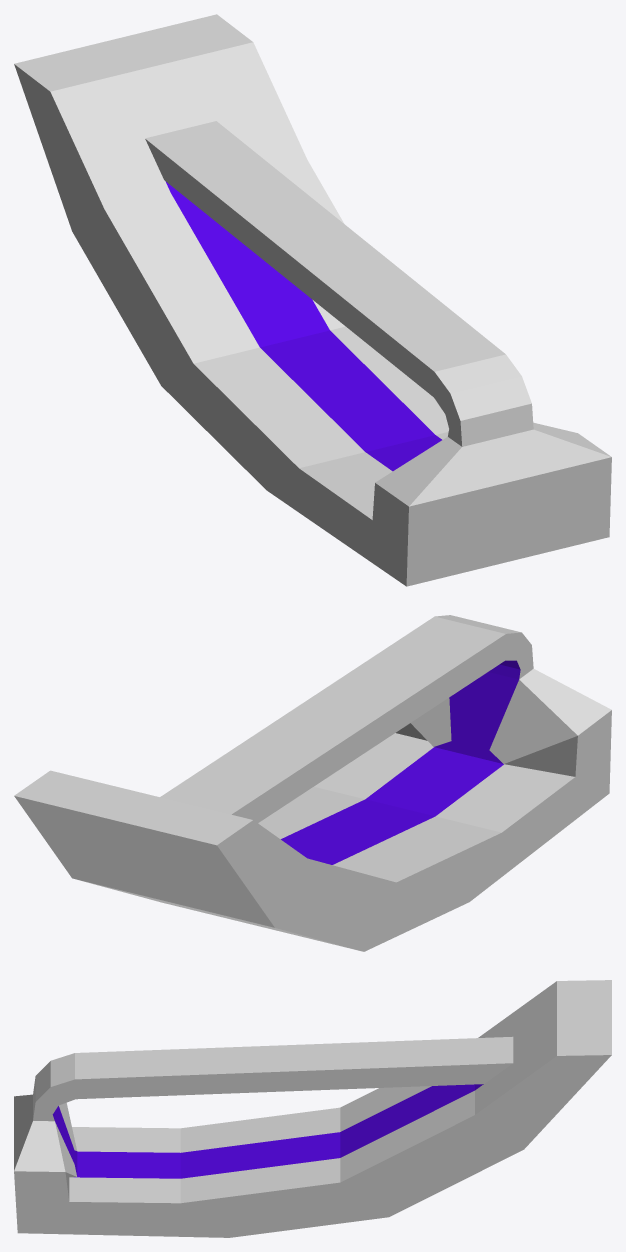
Rendered from holding_mount.fbx.
3 renders of one model, top to bottom at view 1: azimuth 30°, elevation 25°; view 2: azimuth 150°, elevation 25°; view 3: azimuth 270°, elevation 25°, orthographic. The views are drawn at different scales.
Parts seen in each view (by area): view 1: Cube.002; view 2: Cube.002; view 3: Cube.002.
Boxes of the visible parts, <box> form: Cube.002: <box>14,14,611,586</box>; Cube.002: <box>14,615,611,951</box>; Cube.002: <box>14,980,611,1237</box>.
Size of the model in its own units: 200 by 228 by 674.
